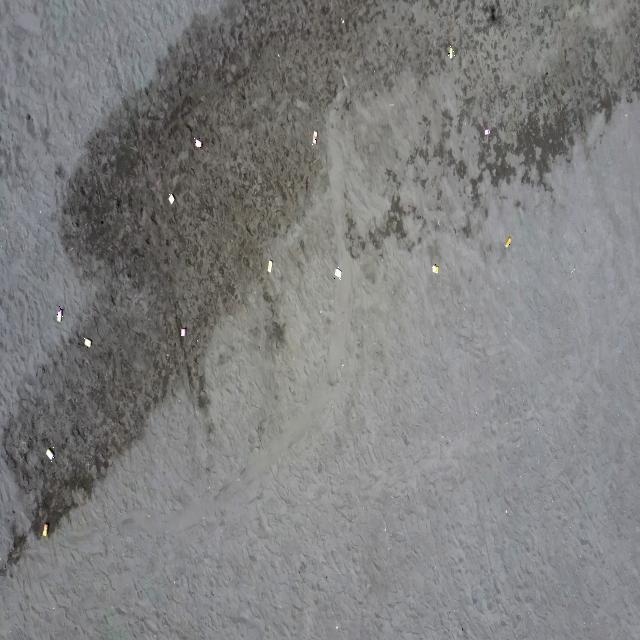retort-pouch: (45, 445, 55, 462), (266, 258, 274, 276), (42, 522, 50, 539), (56, 306, 64, 323), (194, 136, 203, 150), (167, 191, 175, 206), (432, 264, 440, 278), (448, 45, 455, 60), (180, 325, 188, 338), (84, 336, 92, 349), (334, 267, 342, 280), (312, 129, 318, 146), (505, 235, 512, 249), (484, 126, 490, 138)
